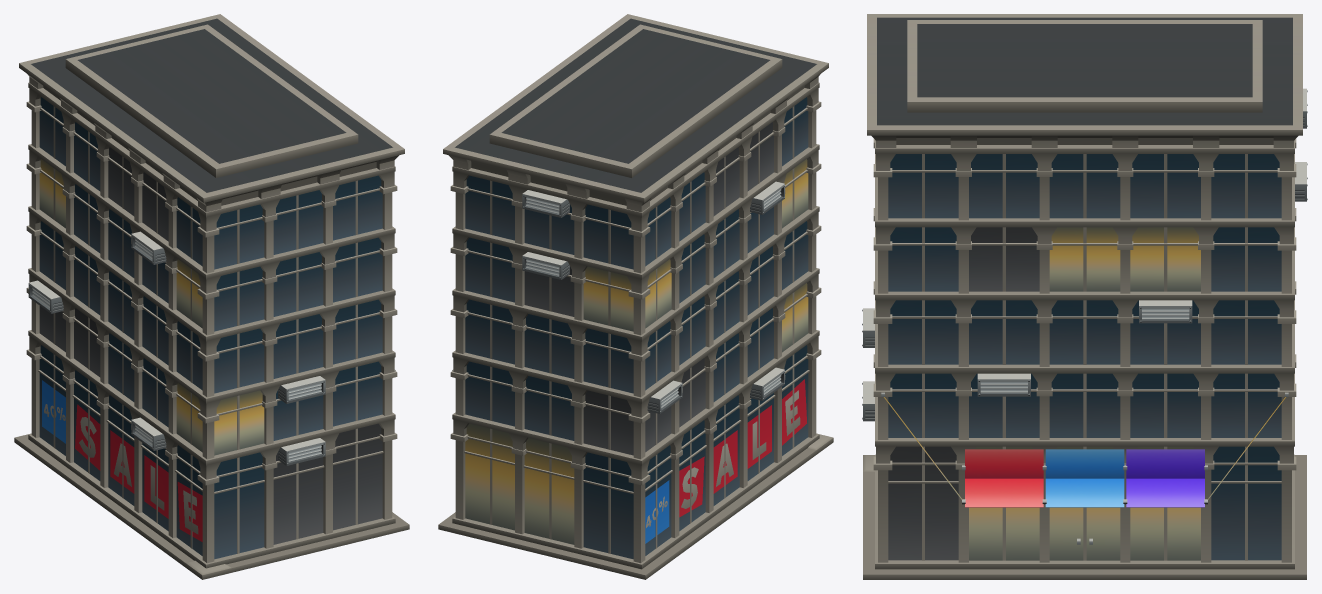
The model's file is Building_11A.fbx.
3 renders of one model, left to right at view 1: azimuth 30°, elevation 25°; view 2: azimuth 150°, elevation 25°; view 3: azimuth 270°, elevation 25°, orthographic. The views are drawn at different scales.
Visible parts, largest first — view 1: Building_11A, Window_Lights_11A, Branding_11A, Air_Conditioner_11A; view 2: Building_11A, Window_Lights_11A, Branding_11A, Air_Conditioner_11A; view 3: Building_11A, Window_Lights_11A, Branding_11A, Air_Conditioner_11A.
Part boxes in pixels (bbox=[...]): Building_11A: bbox=[14, 14, 409, 579]; Window_Lights_11A: bbox=[39, 159, 264, 455]; Branding_11A: bbox=[42, 369, 395, 541]; Air_Conditioner_11A: bbox=[28, 231, 325, 465]; Building_11A: bbox=[438, 14, 833, 579]; Window_Lights_11A: bbox=[465, 159, 808, 544]; Branding_11A: bbox=[452, 369, 806, 543]; Air_Conditioner_11A: bbox=[522, 181, 784, 413]; Building_11A: bbox=[863, 14, 1306, 579]; Window_Lights_11A: bbox=[969, 227, 1200, 560]; Branding_11A: bbox=[881, 392, 1288, 507]; Air_Conditioner_11A: bbox=[862, 88, 1307, 421].
Size of the model in its own units: 14.74 by 25.13 by 22.08.
